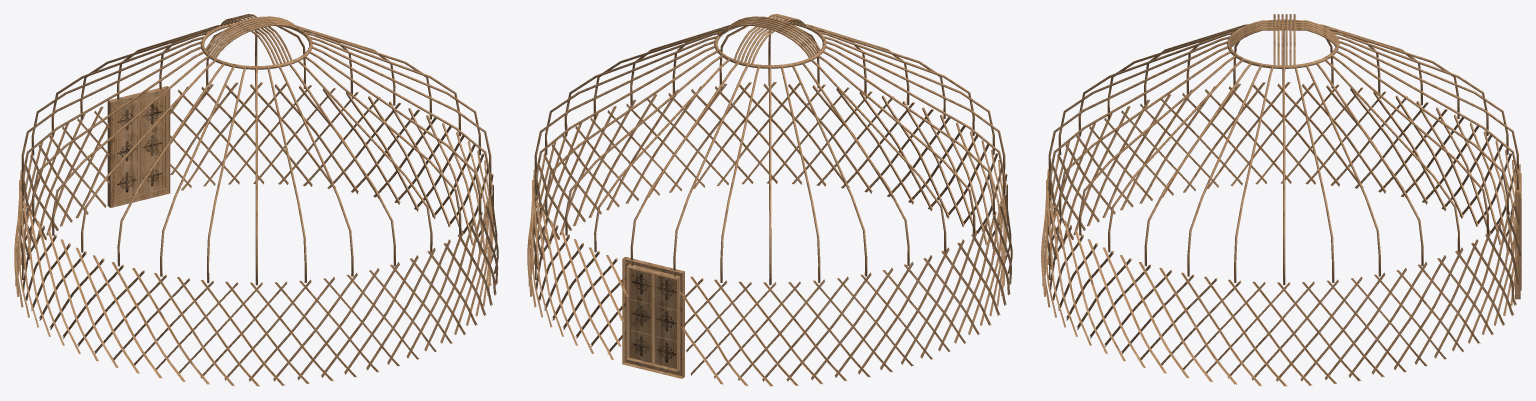
Rendered from WoodKarkas.fbx.
3 views of the same model, side by side, from view 1: azimuth 30°, elevation 25°; view 2: azimuth 150°, elevation 25°; view 3: azimuth 270°, elevation 25° (orthographic).
Parts seen in each view (by area): view 1: wood_karkas.003, wood_karkas.005, wood_karkas, wood_karkas.001, wood_karkas.004, wood_karkas.002; view 2: wood_karkas.003, wood_karkas.005, wood_karkas, wood_karkas.004, wood_karkas.002, wood_karkas.001; view 3: wood_karkas.003, wood_karkas.005, wood_karkas, wood_karkas.001.
Boxes of the visible parts, bbox=[...] form: wood_karkas.003: bbox=[14, 82, 498, 386]; wood_karkas.005: bbox=[21, 22, 491, 285]; wood_karkas: bbox=[200, 14, 312, 69]; wood_karkas.001: bbox=[107, 86, 170, 207]; wood_karkas.004: bbox=[115, 101, 139, 199]; wood_karkas.002: bbox=[139, 95, 164, 193]; wood_karkas.003: bbox=[527, 82, 1012, 386]; wood_karkas.005: bbox=[534, 24, 1005, 285]; wood_karkas: bbox=[714, 14, 826, 68]; wood_karkas.004: bbox=[651, 272, 677, 371]; wood_karkas.002: bbox=[626, 266, 654, 365]; wood_karkas.001: bbox=[622, 257, 684, 378]; wood_karkas.003: bbox=[1041, 82, 1521, 386]; wood_karkas.005: bbox=[1048, 20, 1518, 285]; wood_karkas: bbox=[1227, 14, 1339, 68]; wood_karkas.001: bbox=[1515, 164, 1520, 299].
Size of the model in its own units: 993 by 594 by 983.
1 material, 1 textured.
